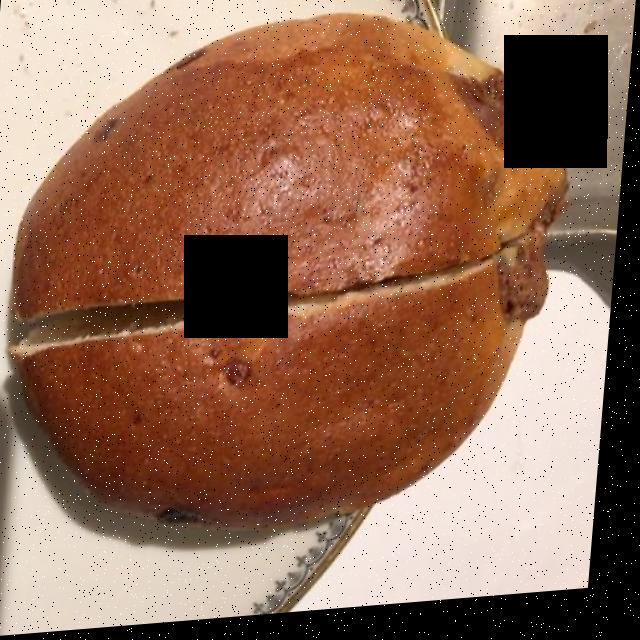roll-with-pieces-of-chocolate: (29, 20, 570, 532)
